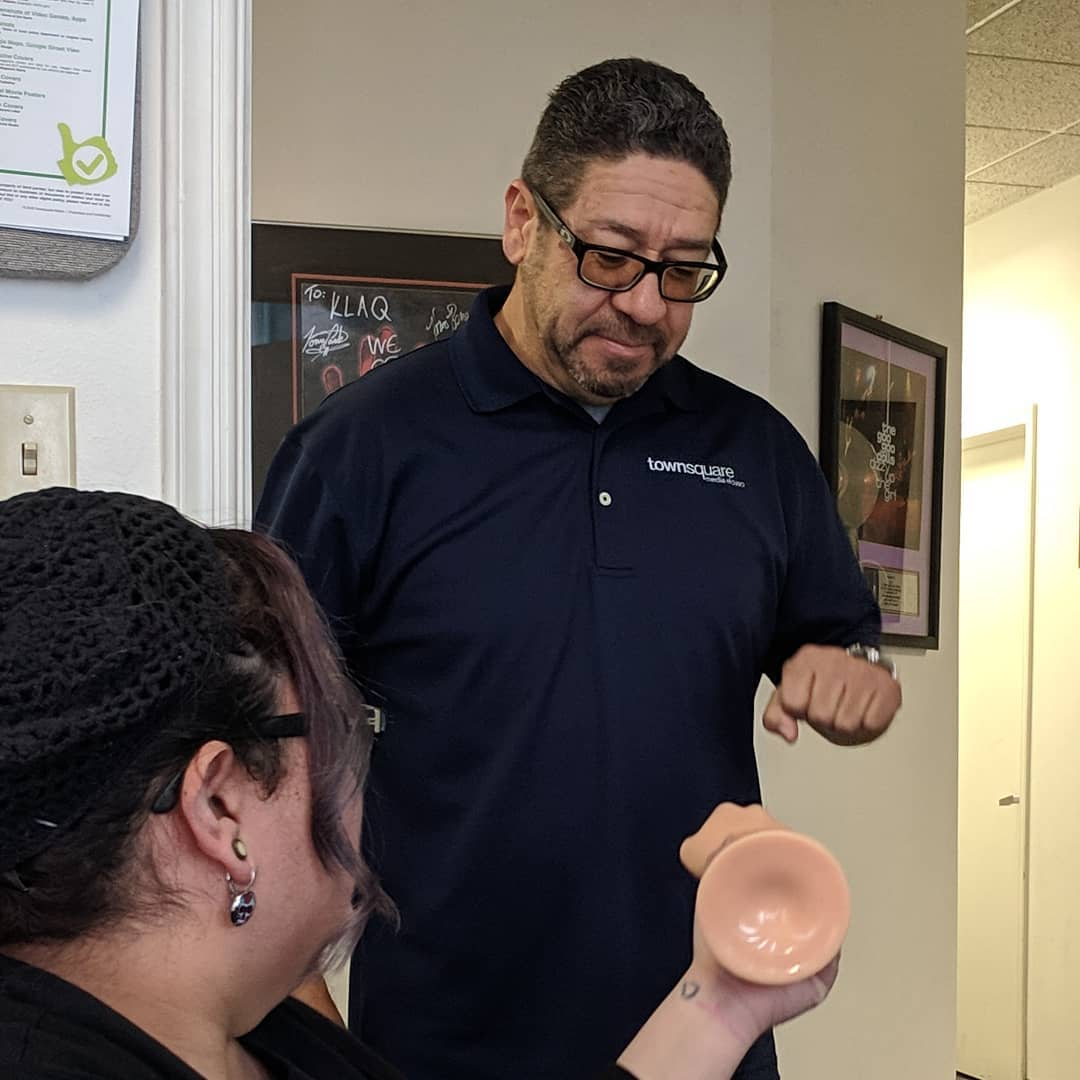hand: (771, 646, 892, 730)
